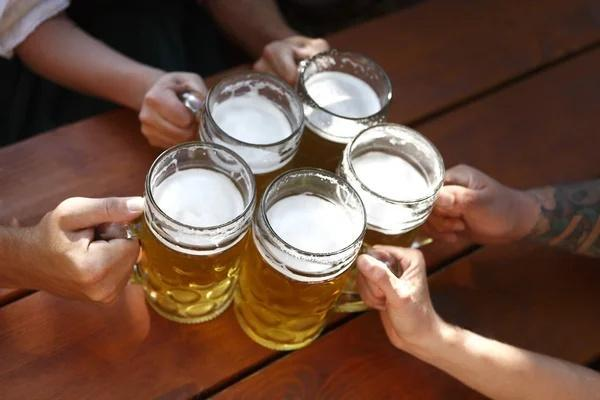glass-mug: (92, 139, 258, 328), (232, 165, 383, 352), (337, 121, 461, 314), (173, 67, 307, 180), (288, 46, 395, 166)
